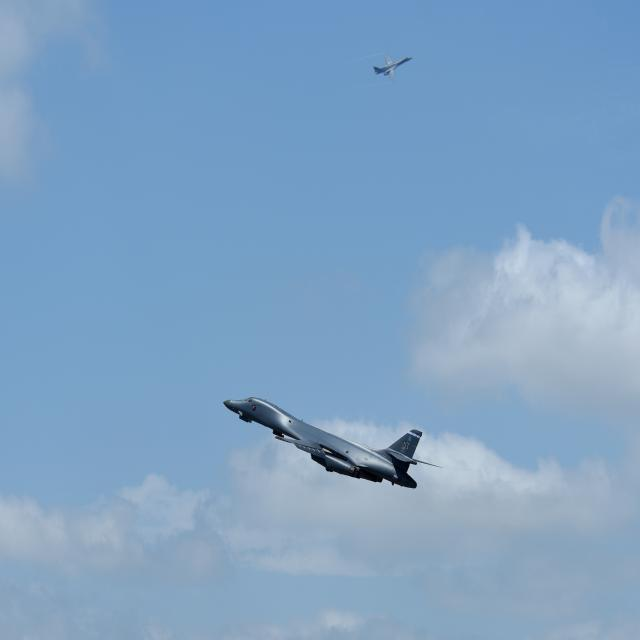MIL_Plane: (216, 396, 438, 489), (372, 52, 413, 83)
